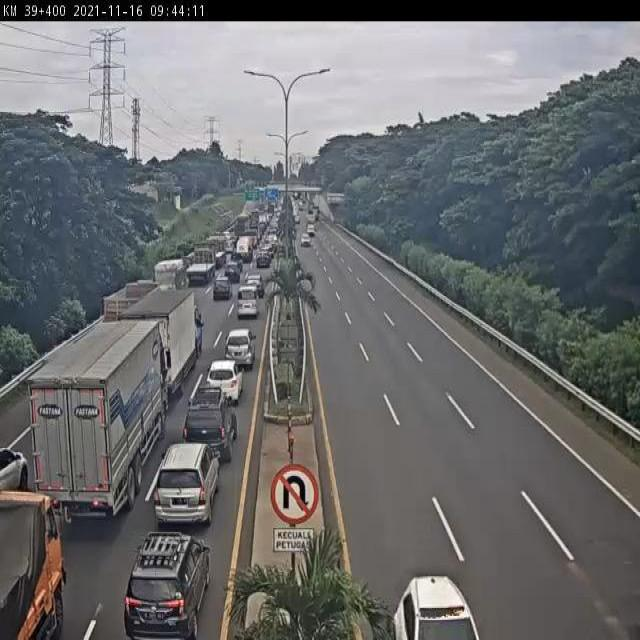car: (121, 526, 208, 640), (378, 563, 488, 632), (154, 428, 225, 531), (182, 384, 256, 464), (223, 320, 266, 381), (204, 352, 251, 405), (0, 438, 29, 498), (235, 285, 264, 319), (211, 271, 233, 305), (297, 230, 312, 250)
truck-l-: (26, 321, 163, 524), (187, 243, 218, 281)
truck-m-: (0, 486, 68, 640), (123, 287, 204, 397), (107, 282, 158, 318), (154, 255, 188, 292)
